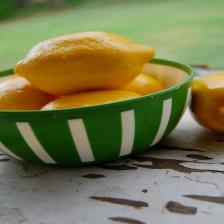green: (0, 58, 195, 166)
